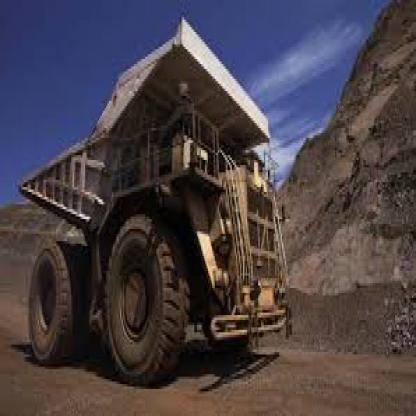dump_truck: (11, 10, 300, 381)
